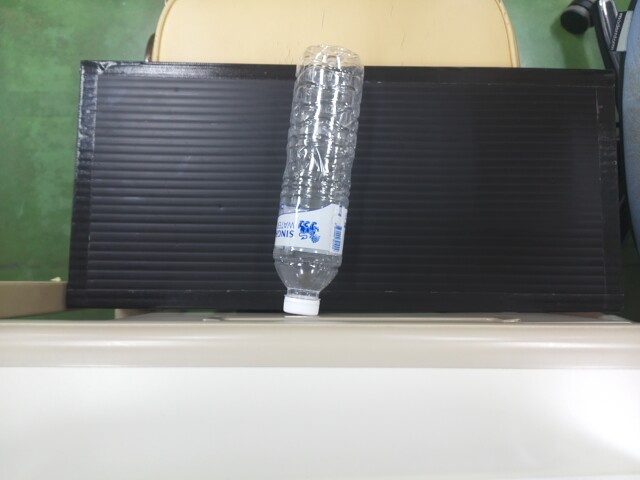plastic_bottle: (278, 47, 359, 314)
